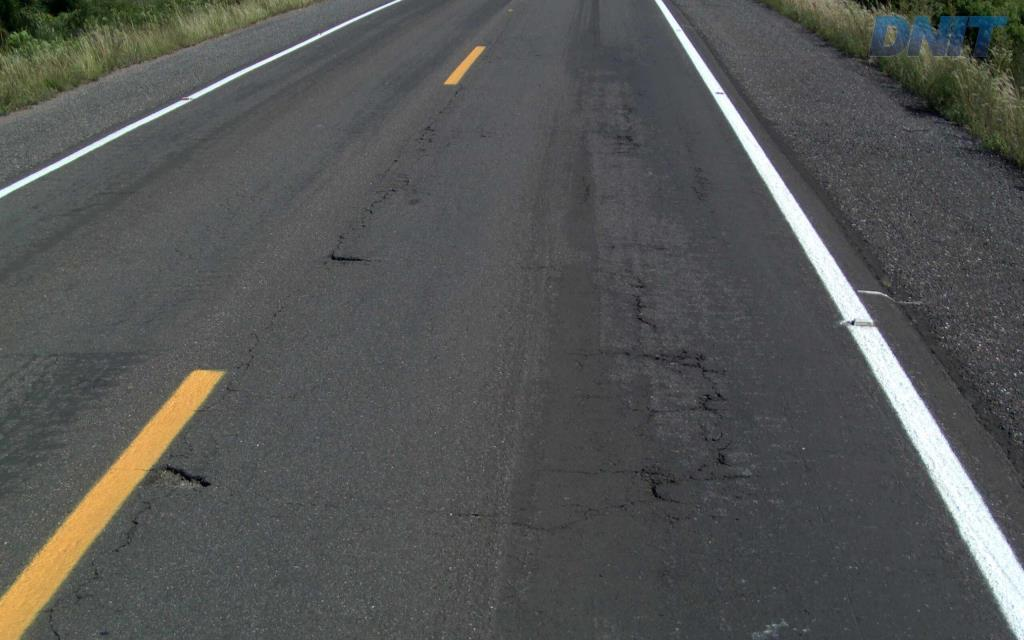crack: (638, 348, 718, 381), (632, 460, 680, 503)
pothole: (158, 458, 214, 496)
